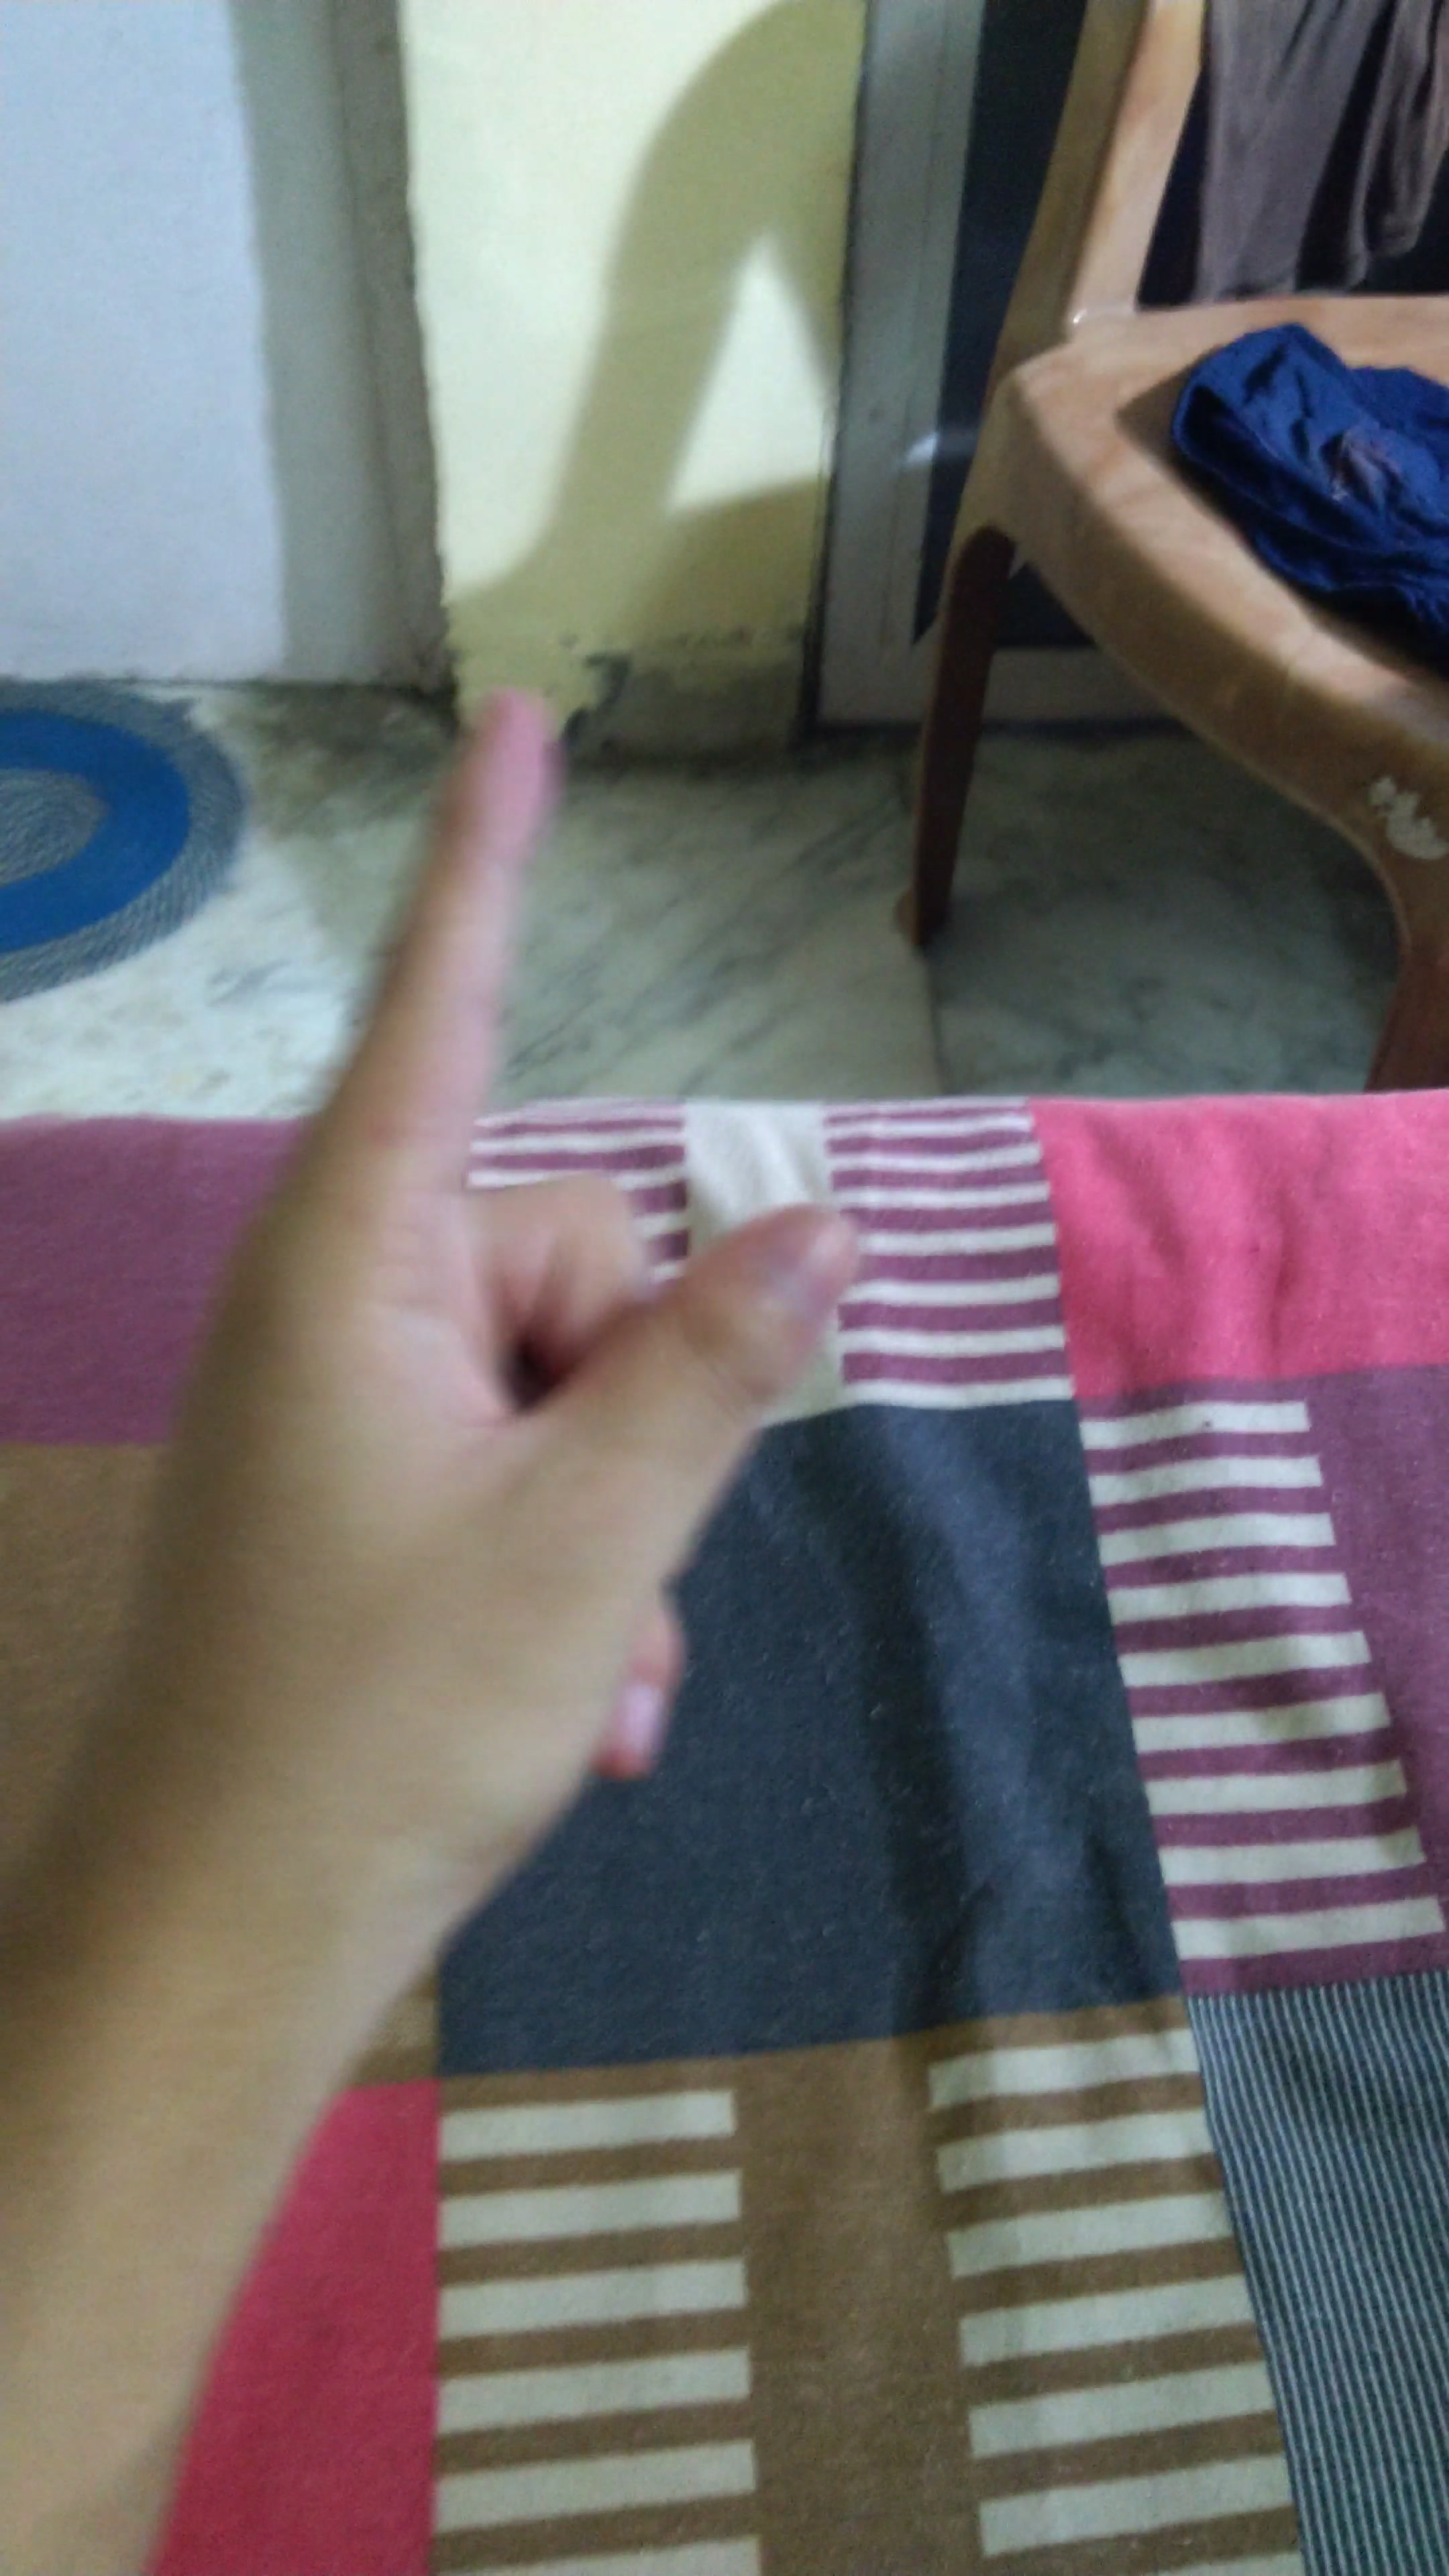hand: (71, 669, 909, 1925)
